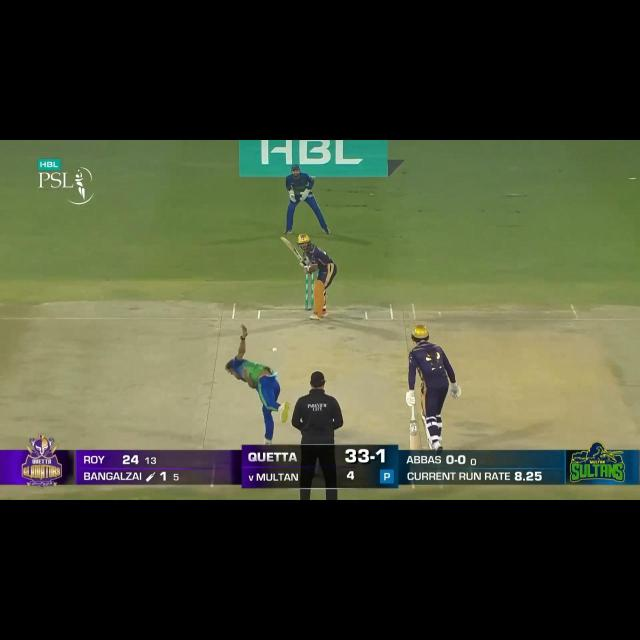bat: (278, 234, 302, 262), (410, 421, 420, 450)
toe: (279, 235, 287, 243)
